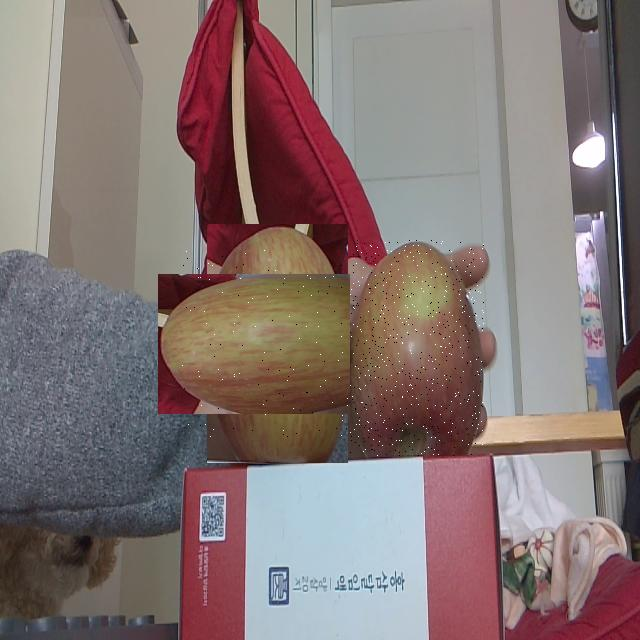apple: (182, 248, 373, 438), (350, 240, 484, 456)
